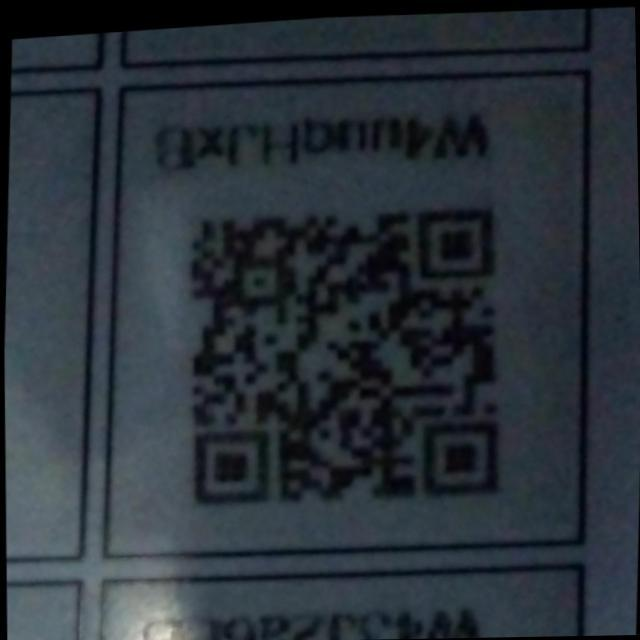QRCode: (154, 176, 524, 524)
